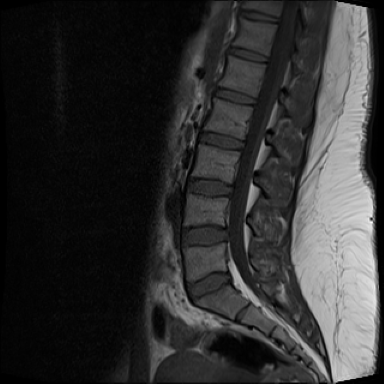Normal IVD: (177, 219, 233, 255), (185, 267, 232, 307), (220, 37, 273, 69), (182, 174, 235, 202), (208, 83, 257, 113), (196, 126, 247, 154), (234, 3, 283, 28)
